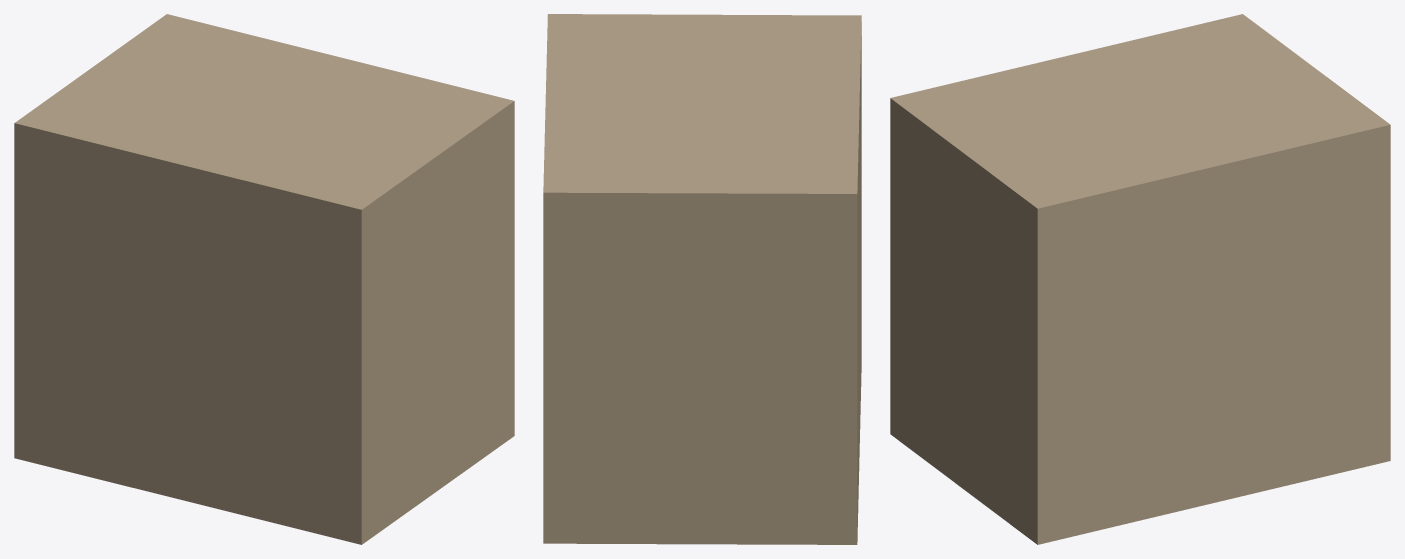
File: bld_158595934.dae
The picture shows the model from 3 angles, left to right: view 1: azimuth 30°, elevation 25°; view 2: azimuth 150°, elevation 25°; view 3: azimuth 270°, elevation 25°; orthographic projection. The views are drawn at different scales.
Visible parts, largest first — view 1: bld_158595934; view 2: bld_158595934; view 3: bld_158595934.
Part boxes in pixels (x1=…): bld_158595934: x1=14, y1=14, x2=514, y2=544; bld_158595934: x1=543, y1=14, x2=861, y2=544; bld_158595934: x1=890, y1=14, x2=1390, y2=544.
Bounding box in the file's own units: 9.94 × 10.79 × 8.
